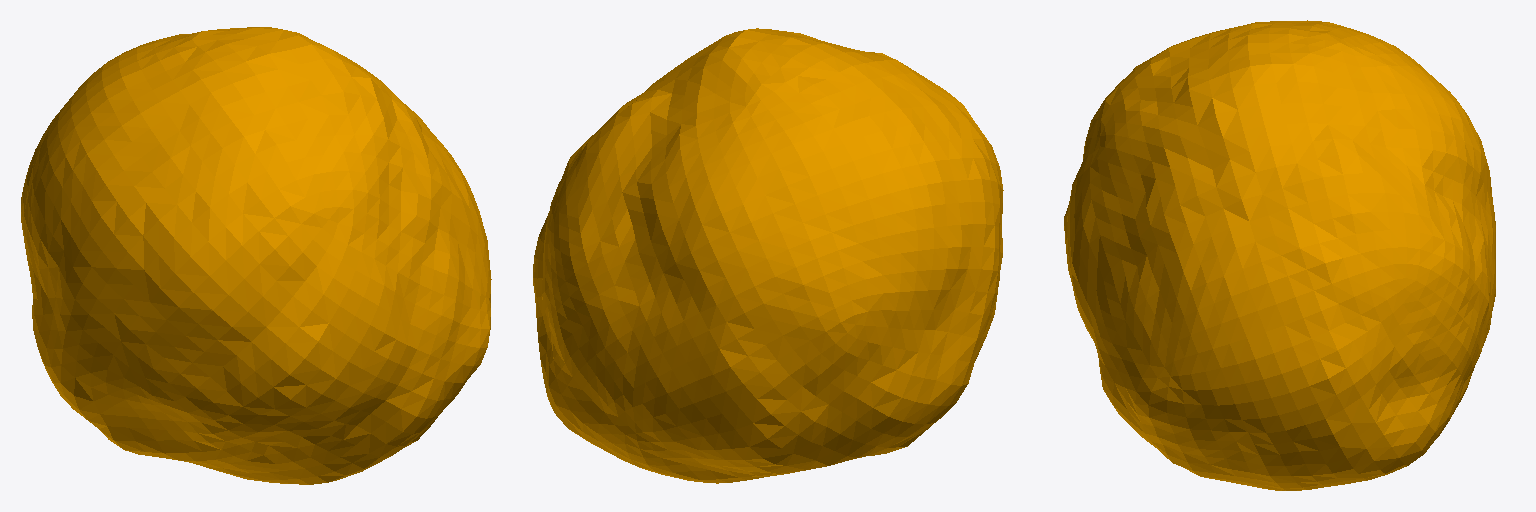
robot.urdf — rock:
<?xml version="1.0" ?>
<robot name="rock">
  <link name="rock">
    <inertial>
      <mass value="0.219"/>
      <origin rpy="0 0 0" xyz="0 0 0"/>
      <inertia ixx="0.000219" ixy="0" ixz="0" iyy="0.000219" iyz="0" izz="0.000219"/>
    </inertial>
    <collision name="rock_collision">
      <origin rpy="0 0 0" xyz="0 0 0"/>
      <geometry>
        <mesh filename="package://rocks/visual/72.dae" scale="1 1 1"/>
      </geometry>
    </collision>
    <visual name="rock_visual">
      <origin rpy="0 0 0" xyz="0 0 0"/>
      <geometry>
        <mesh filename="package://rocks/visual/72.dae" scale="1 1 1"/>
      </geometry>
    </visual>
  </link>
</robot>

--- Render facts (derived) ---
Views: 3 orthographic renders of the robot side by side, from view 1: azimuth 30°, elevation 25°; view 2: azimuth 150°, elevation 25°; view 3: azimuth 270°, elevation 25°.
Robot: rock — 1 links, 0 joints (none); root link rock; default pose: all joints at 0.
Visible links, largest first — view 1: rock; view 2: rock; view 3: rock.
Link boxes in pixels (x1,y1,x2,y2): rock: [21, 27, 491, 484]; rock: [533, 28, 1003, 483]; rock: [1064, 20, 1495, 490].
Bounding box of the posed robot: 0.0784 × 0.0735 × 0.0769 m (x, y, z).
1 mesh visuals loaded from 1 distinct referenced files (1 Collada DAE).